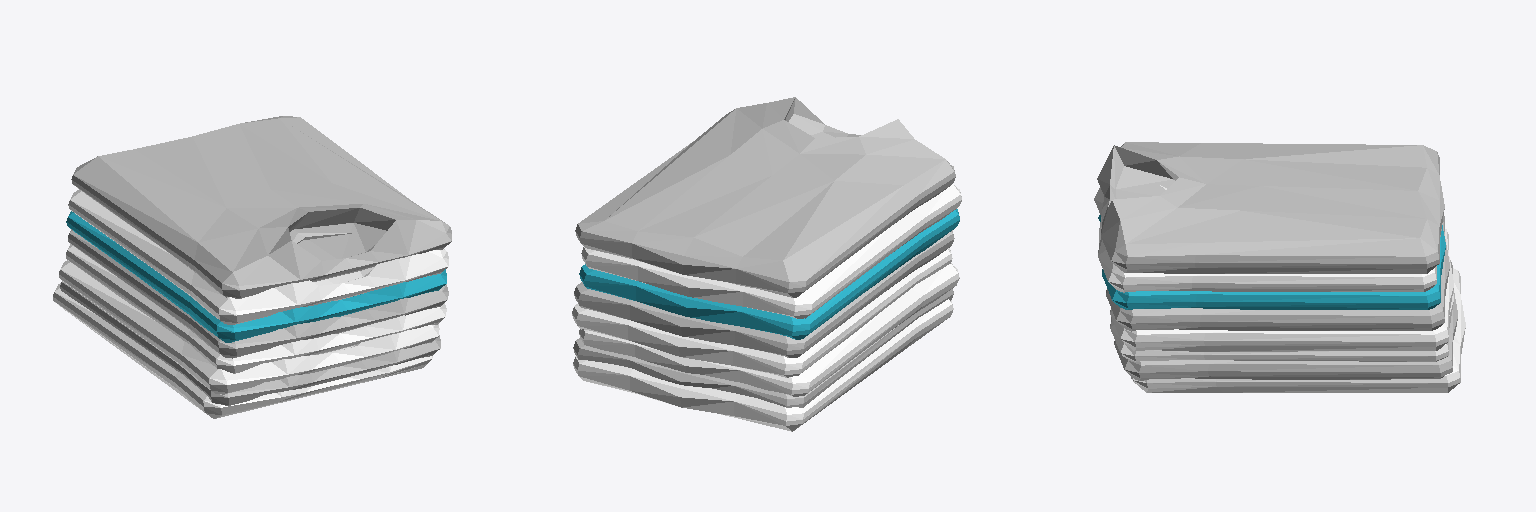
File: tgkwpsobdg.obj
The picture shows the model from 3 angles: view 1: azimuth 30°, elevation 25°; view 2: azimuth 150°, elevation 25°; view 3: azimuth 270°, elevation 25°; orthographic projection.
Visible parts, largest first — view 1: group[number redacted], group[number redacted], group[number redacted], group[number redacted], group[number redacted], group[number redacted], group[number redacted], group[number redacted]; view 2: group[number redacted], group[number redacted], group[number redacted], group[number redacted], group[number redacted], group[number redacted], group[number redacted], group[number redacted]; view 3: group[number redacted], group[number redacted], group[number redacted], group[number redacted], group[number redacted], group[number redacted], group[number redacted], group[number redacted].
Boxes of the visible parts, <box> form: group[number redacted]: <box>71,116,451,298</box>; group[number redacted]: <box>68,190,448,324</box>; group[number redacted]: <box>59,260,439,394</box>; group[number redacted]: <box>66,211,446,342</box>; group[number redacted]: <box>66,244,446,373</box>; group[number redacted]: <box>68,229,448,358</box>; group[number redacted]: <box>53,283,432,418</box>; group[number redacted]: <box>60,281,440,405</box>; group[number redacted]: <box>575,97,955,297</box>; group[number redacted]: <box>581,184,961,318</box>; group[number redacted]: <box>573,299,953,431</box>; group[number redacted]: <box>579,209,959,339</box>; group[number redacted]: <box>579,263,959,396</box>; group[number redacted]: <box>572,248,952,377</box>; group[number redacted]: <box>574,230,954,357</box>; group[number redacted]: <box>573,289,953,407</box>; group[number redacted]: <box>1097,142,1444,273</box>; group[number redacted]: <box>1106,216,1449,331</box>; group[number redacted]: <box>1110,229,1453,351</box>; group[number redacted]: <box>1094,185,1441,292</box>; group[number redacted]: <box>1114,260,1457,380</box>; group[number redacted]: <box>1098,215,1445,309</box>; group[number redacted]: <box>1131,268,1465,392</box>; group[number redacted]: <box>1110,294,1453,361</box>.
Size of the model in its own units: 0.673 by 0.474 by 0.91.